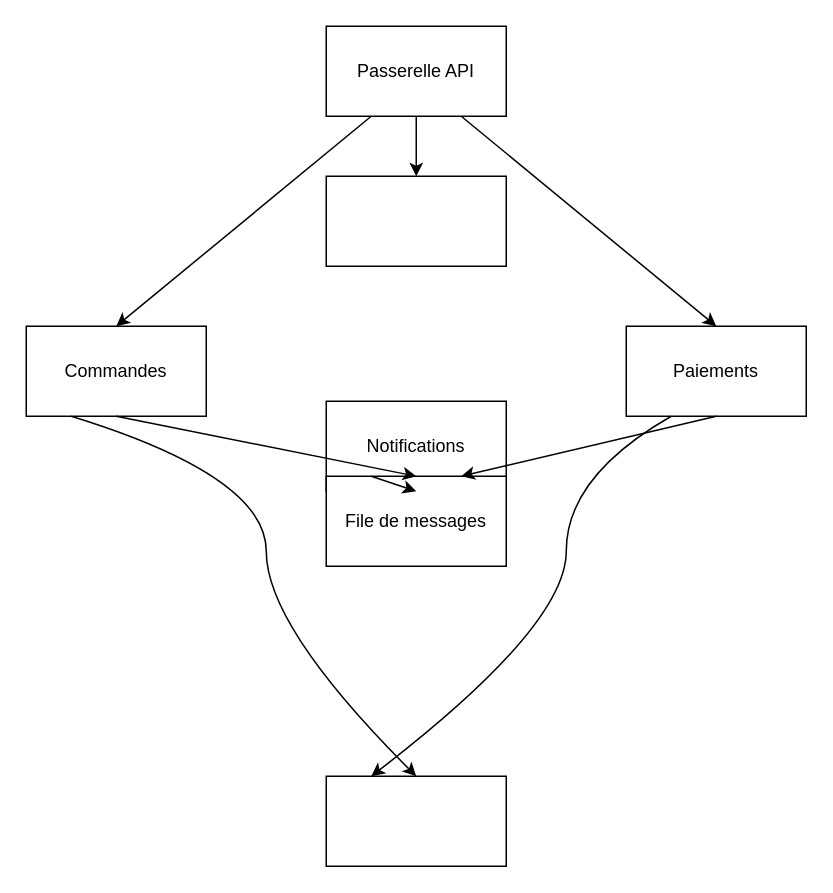
Image size: 833x893. Some labels were removed from this diagram. Each missing label, with the centre of its shape:
"Authentification" belongs at (415,220).
"Base de données" belongs at (415,820).
